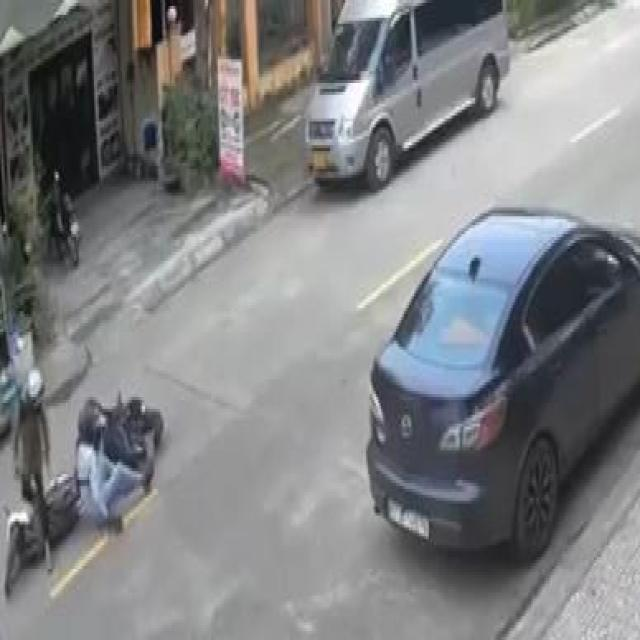accident: (0, 356, 168, 604)
